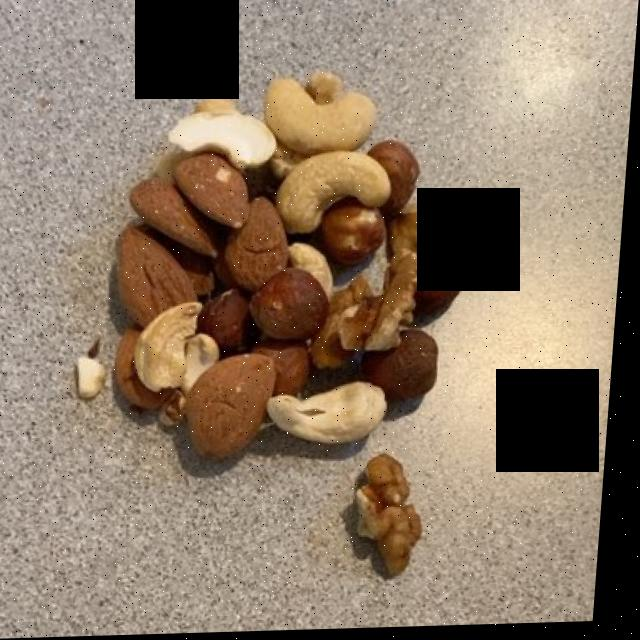mixed-nuts: (124, 74, 489, 578)
